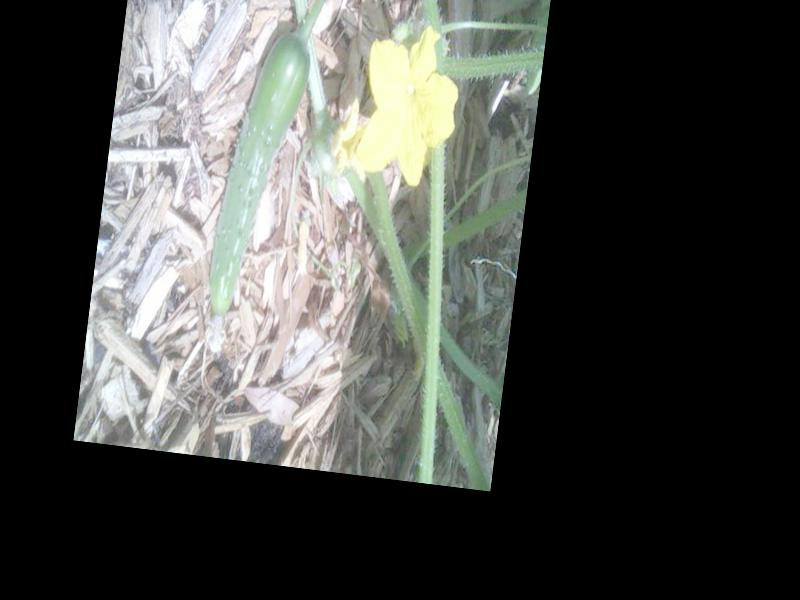Cucumber: (198, 22, 314, 353)
